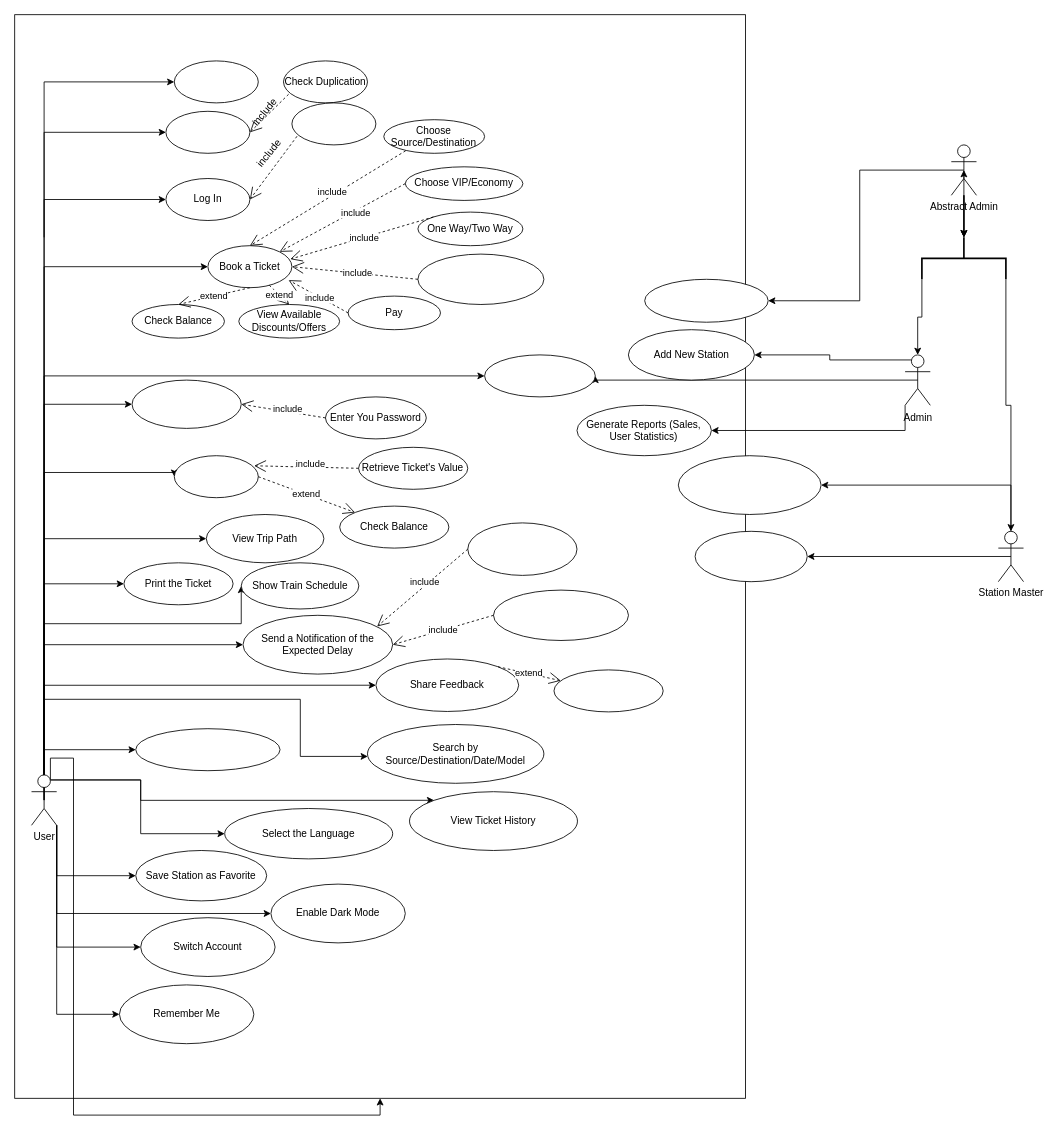
Some shapes in this 1058 by 1137 pixel diagram are drawn without their labels. The centre of each missing label's shape, as x and y in pixels:
"Calculate the Expected Delay" belongs at point (522, 548).
"Cancel The Trip" belongs at point (215, 476).
"Choose Number of Tickets" belongs at point (480, 278).
"include Check Data" belongs at point (333, 123).
"log out" belongs at point (215, 81).
"log train arrival" belongs at point (750, 556).
"Recharge the Balance" belongs at point (539, 375).
"Report a Problem" belongs at point (608, 690).
"Sign Up" belongs at point (207, 131).
"Update My Profile" belongs at point (186, 403).
"update the departure time" belongs at point (749, 484).
"Update Train Schedule" belongs at point (706, 300).
"View Notification History" belongs at point (560, 614).
"View Station Facilities" belongs at point (207, 749).
